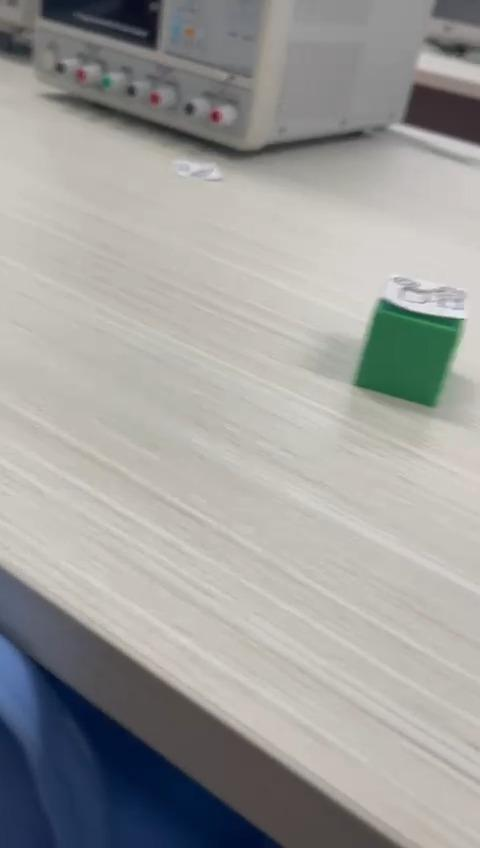Bandages: (354, 270, 468, 408)
